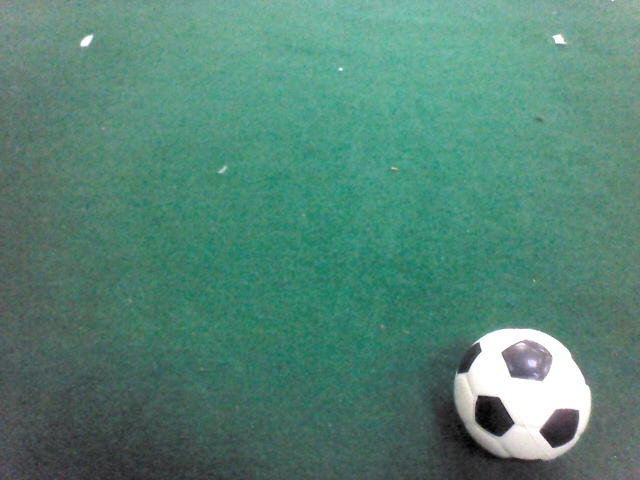ball: (452, 327, 594, 462)
